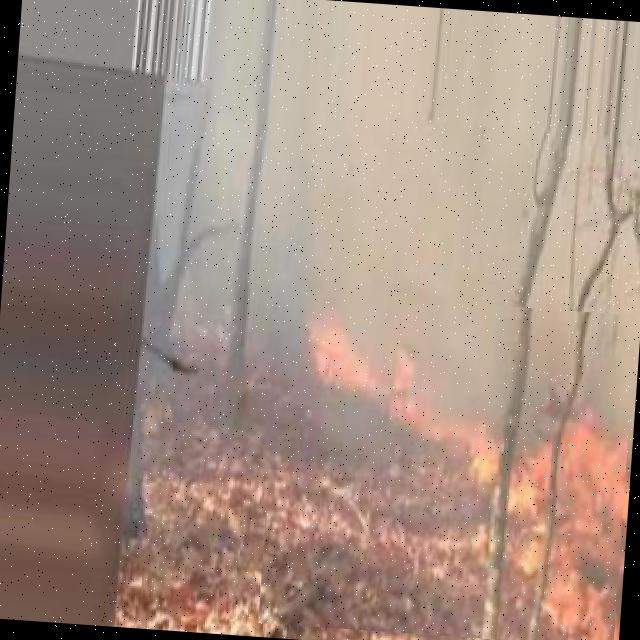fire: (258, 290, 636, 640)
